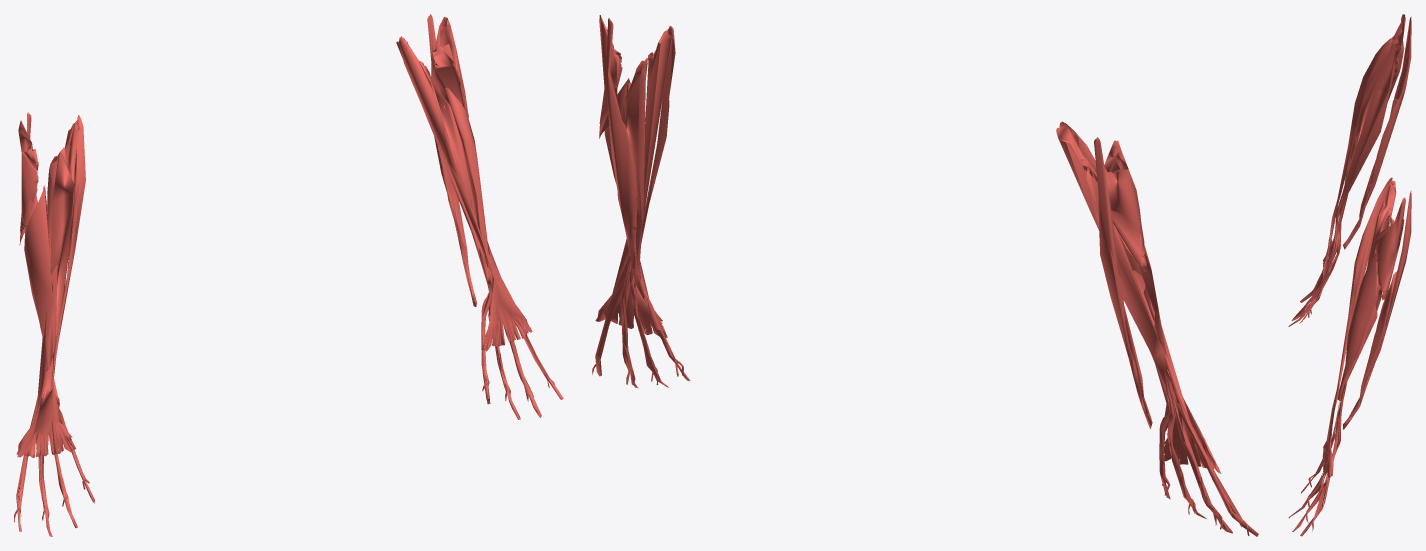
The model's file is supplement-wrist-hand-muscle-X2NTKWPX.glb.
3 renders of one model, left to right at view 1: azimuth 30°, elevation 25°; view 2: azimuth 150°, elevation 25°; view 3: azimuth 270°, elevation 25°, orthographic. The views are drawn at different scales.
Parts seen in each view (by area): view 1: wrist-hand:finger-flexors:isa:FJ1475, wrist-hand:palmaris-longus:isa:FJ1502M, wrist-hand:palmaris-longus:isa:FJ1502, wrist-hand:finger-flexors:isa:FJ1499, wrist-hand:finger-flexors:isa:FJ1497M, wrist-hand:supinator:isa:FJ1505M, wrist-hand:finger-flexors:isa:FJ1499M, wrist-hand:finger-flexors:isa:FJ1475M, wrist-hand:finger-flexors:isa:FJ1497, wrist-hand:supinator:isa:FJ1505, wrist-hand:extensor-carpi-ulnaris:isa:FJ1517M, wrist-hand:extensor-carpi-ulnaris:isa:FJ1472M; view 2: wrist-hand:finger-flexors:isa:FJ1497, wrist-hand:finger-flexors:isa:FJ1497M, wrist-hand:extensor-carpi-ulnaris:isa:FJ1472M, wrist-hand:finger-flexors:isa:FJ1475, wrist-hand:finger-flexors:isa:FJ1475M, wrist-hand:extensor-carpi-ulnaris:isa:FJ1472, wrist-hand:supinator:isa:FJ1505, wrist-hand:palmaris-longus:isa:FJ1502M, wrist-hand:palmaris-longus:isa:FJ1502, wrist-hand:supinator:isa:FJ1505M; view 3: wrist-hand:finger-flexors:isa:FJ1475, wrist-hand:palmaris-longus:isa:FJ1502M, wrist-hand:finger-flexors:isa:FJ1499M, wrist-hand:palmaris-longus:isa:FJ1502, wrist-hand:finger-flexors:isa:FJ1497, wrist-hand:extensor-carpi-ulnaris:isa:FJ1472, wrist-hand:supinator:isa:FJ1505M, wrist-hand:finger-flexors:isa:FJ1497M, wrist-hand:finger-flexors:isa:FJ1475M, wrist-hand:extensor-carpi-ulnaris:isa:FJ1472M, wrist-hand:extensor-carpi-ulnaris:isa:FJ1517M, wrist-hand:supinator:isa:FJ1505 (+1 smaller).
Part boxes in pixels (bbox=[...]): wrist-hand:finger-flexors:isa:FJ1475: bbox=[14, 119, 89, 522]; wrist-hand:palmaris-longus:isa:FJ1502M: bbox=[399, 36, 532, 351]; wrist-hand:palmaris-longus:isa:FJ1502: bbox=[16, 115, 85, 457]; wrist-hand:finger-flexors:isa:FJ1499: bbox=[24, 185, 52, 371]; wrist-hand:finger-flexors:isa:FJ1497M: bbox=[425, 66, 563, 419]; wrist-hand:supinator:isa:FJ1505M: bbox=[430, 17, 468, 117]; wrist-hand:finger-flexors:isa:FJ1499M: bbox=[445, 87, 490, 267]; wrist-hand:finger-flexors:isa:FJ1475M: bbox=[396, 41, 554, 401]; wrist-hand:finger-flexors:isa:FJ1497: bbox=[16, 154, 94, 536]; wrist-hand:supinator:isa:FJ1505: bbox=[18, 120, 38, 245]; wrist-hand:extensor-carpi-ulnaris:isa:FJ1517M: bbox=[438, 147, 474, 300]; wrist-hand:extensor-carpi-ulnaris:isa:FJ1472M: bbox=[427, 14, 476, 306]; wrist-hand:finger-flexors:isa:FJ1497: bbox=[1086, 165, 1259, 536]; wrist-hand:finger-flexors:isa:FJ1497M: bbox=[595, 58, 690, 388]; wrist-hand:extensor-carpi-ulnaris:isa:FJ1472M: bbox=[606, 18, 647, 305]; wrist-hand:finger-flexors:isa:FJ1475: bbox=[1056, 122, 1249, 535]; wrist-hand:finger-flexors:isa:FJ1475M: bbox=[592, 27, 683, 384]; wrist-hand:extensor-carpi-ulnaris:isa:FJ1472: bbox=[1094, 137, 1152, 428]; wrist-hand:supinator:isa:FJ1505: bbox=[1104, 140, 1146, 271]; wrist-hand:palmaris-longus:isa:FJ1502M: bbox=[595, 25, 675, 337]; wrist-hand:palmaris-longus:isa:FJ1502: bbox=[1059, 121, 1220, 473]; wrist-hand:supinator:isa:FJ1505M: bbox=[599, 15, 622, 138]; wrist-hand:finger-flexors:isa:FJ1475: bbox=[1306, 43, 1396, 317]; wrist-hand:palmaris-longus:isa:FJ1502M: bbox=[1322, 177, 1392, 477]; wrist-hand:finger-flexors:isa:FJ1499M: bbox=[1337, 252, 1379, 400]; wrist-hand:palmaris-longus:isa:FJ1502: bbox=[1322, 38, 1392, 280]; wrist-hand:finger-flexors:isa:FJ1497: bbox=[1288, 63, 1395, 326]; wrist-hand:extensor-carpi-ulnaris:isa:FJ1472: bbox=[1343, 16, 1411, 249]; wrist-hand:supinator:isa:FJ1505M: bbox=[1375, 197, 1405, 303]; wrist-hand:finger-flexors:isa:FJ1497M: bbox=[1288, 215, 1394, 536]; wrist-hand:finger-flexors:isa:FJ1475M: bbox=[1306, 178, 1396, 531]; wrist-hand:extensor-carpi-ulnaris:isa:FJ1472M: bbox=[1343, 190, 1411, 429]; wrist-hand:extensor-carpi-ulnaris:isa:FJ1517M: bbox=[1347, 271, 1396, 422]; wrist-hand:supinator:isa:FJ1505: bbox=[1388, 14, 1405, 100].
Size of the model in its own units: 0.6139 by 0.3933 by 0.136.
